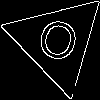O: (32, 17, 82, 72)
